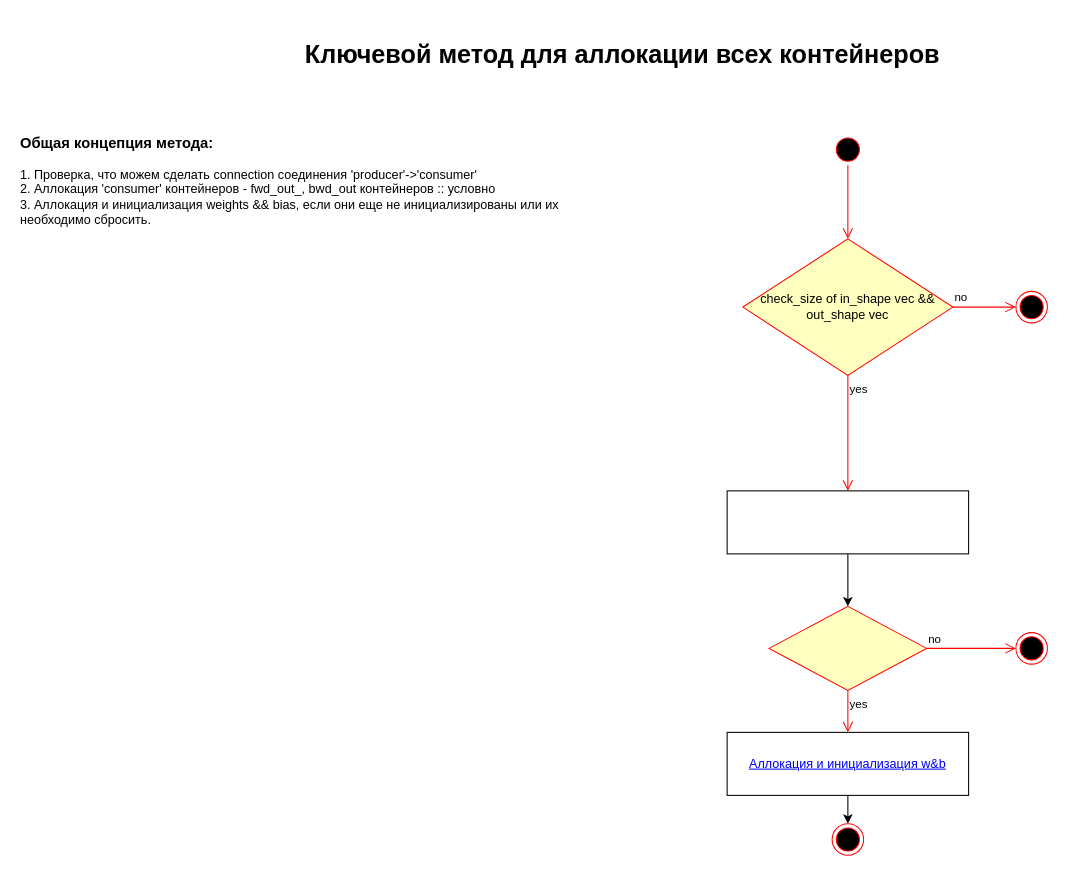
Image size: 1066x874. Some labels were removed from this diagram. The shapes that lost their labels are listed below. From the top down, each one's centre as x and y in pixels, then its label:
At (x=847, y=522): "Аллокация через ith_node_out() consumer контейнеров".
At (x=847, y=647): "need init w&b?".
